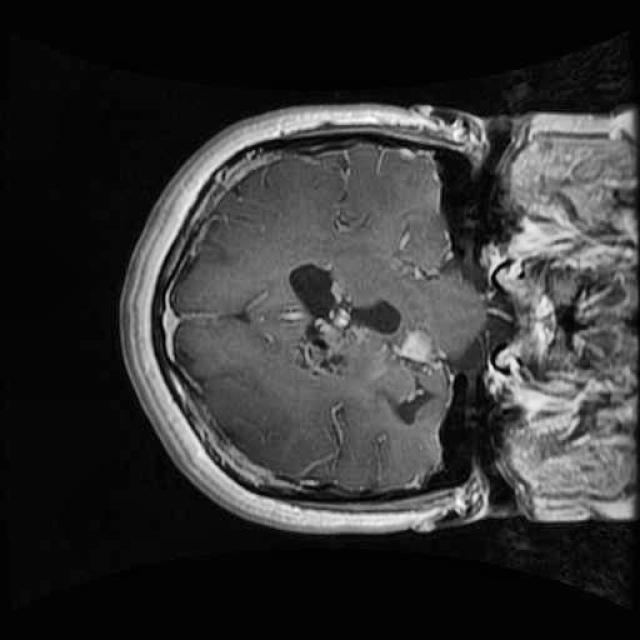Non-Tumor: (278, 249, 409, 389)
